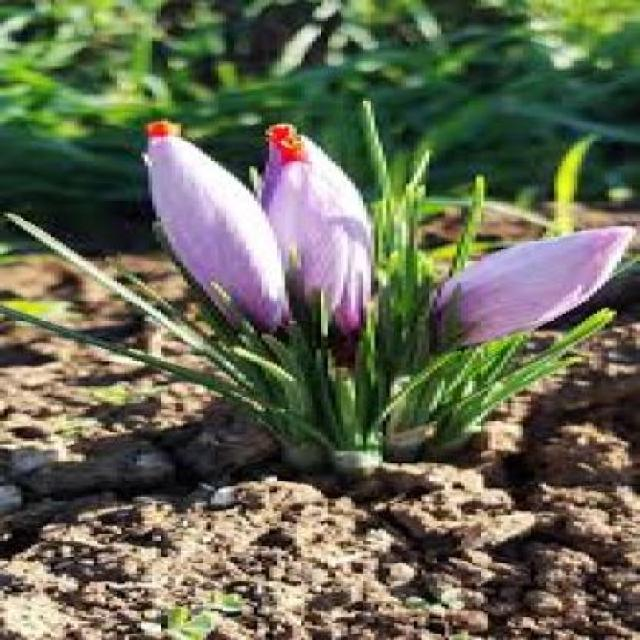saffron closed: (149, 122, 290, 330), (435, 226, 634, 344), (261, 125, 371, 334)
